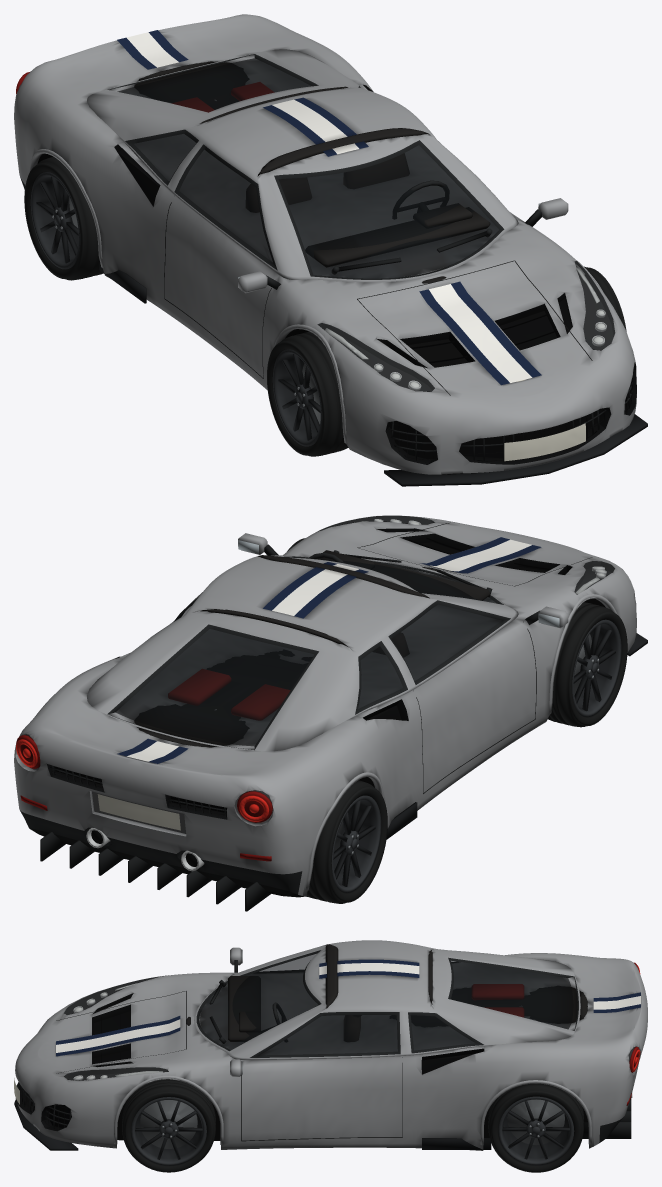
Rendered from ferrari-458-speciale.glb.
3 renders of one model, top to bottom at view 1: azimuth 30°, elevation 25°; view 2: azimuth 150°, elevation 25°; view 3: azimuth 270°, elevation 25°, orthographic. The views are drawn at different scales.
Visible parts, largest first — view 1: Coachwork, Body, Wheel_FR, Wheel_RR, Plate, Headlights; view 2: Coachwork, Body, Wheel_FR, Wheel_RR, Taillights, Plate; view 3: Coachwork, Body, Wheel_FL, Wheel_RL.
Boxes of the visible parts, x1,y1,x2,y2 form: Coachwork: [14, 14, 636, 474]; Body: [29, 30, 647, 486]; Wheel_FR: [267, 331, 348, 456]; Wheel_RR: [24, 157, 103, 280]; Plate: [504, 423, 585, 461]; Headlights: [324, 267, 605, 387]; Coachwork: [14, 515, 636, 897]; Body: [20, 515, 647, 911]; Wheel_FR: [548, 602, 627, 727]; Wheel_RR: [306, 780, 387, 903]; Taillights: [16, 735, 272, 822]; Plate: [97, 794, 180, 830]; Coachwork: [15, 953, 647, 1150]; Body: [14, 940, 640, 1150]; Wheel_FL: [122, 1079, 215, 1172]; Wheel_RL: [488, 1083, 583, 1172].
Bounding box in the file's own units: 2.07 × 1.21 × 4.57.
